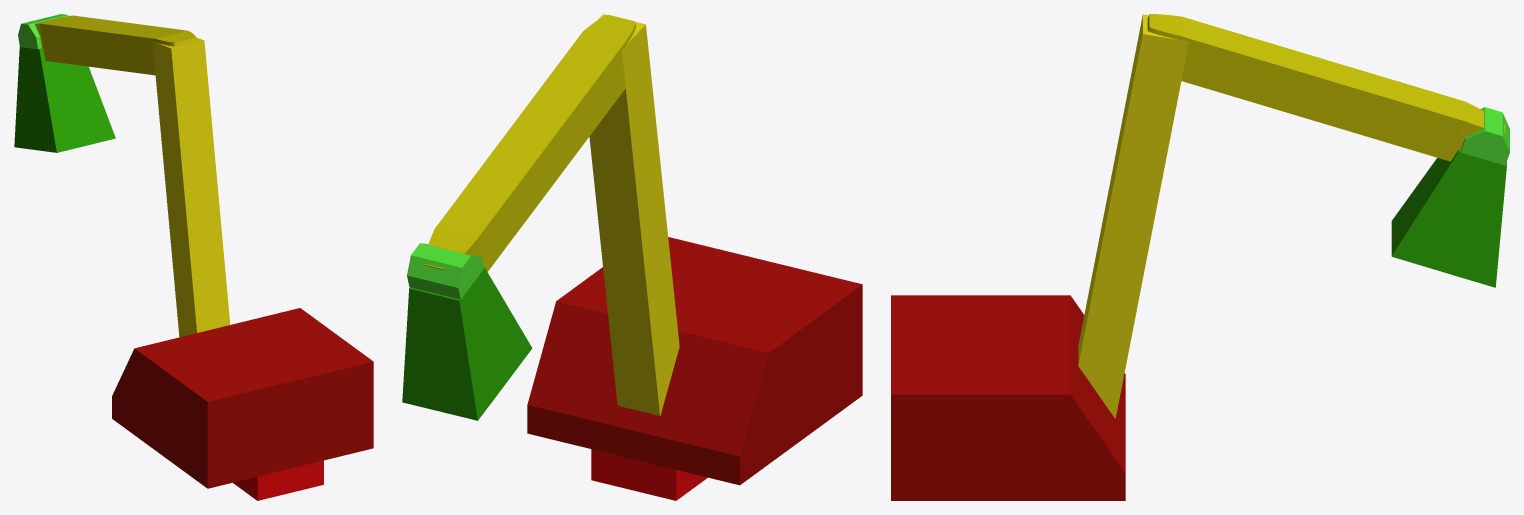
Rendered from Excavator.glb.
The picture shows the model from 3 angles, left to right: view 1: azimuth 30°, elevation 25°; view 2: azimuth 150°, elevation 25°; view 3: azimuth 270°, elevation 25°; orthographic projection. The views are drawn at different scales.
Parts seen in each view (by area): view 1: Base, Arm1, Spade, Arm2; view 2: Base, Arm1, Arm2, Spade; view 3: Base, Arm2, Arm1, Spade.
Boxes of the visible parts, bbox=[...] form: Base: bbox=[112, 308, 373, 500]; Arm1: bbox=[152, 37, 230, 337]; Spade: bbox=[14, 14, 115, 152]; Arm2: bbox=[35, 15, 196, 75]; Base: bbox=[527, 237, 862, 500]; Arm1: bbox=[589, 14, 679, 415]; Arm2: bbox=[425, 15, 635, 271]; Spade: bbox=[402, 243, 532, 420]; Base: bbox=[891, 295, 1125, 500]; Arm2: bbox=[1147, 14, 1505, 161]; Arm1: bbox=[1078, 14, 1188, 418]; Spade: bbox=[1391, 107, 1509, 287].
Bounding box in the file's own units: 10 × 21.66 × 26.38.
